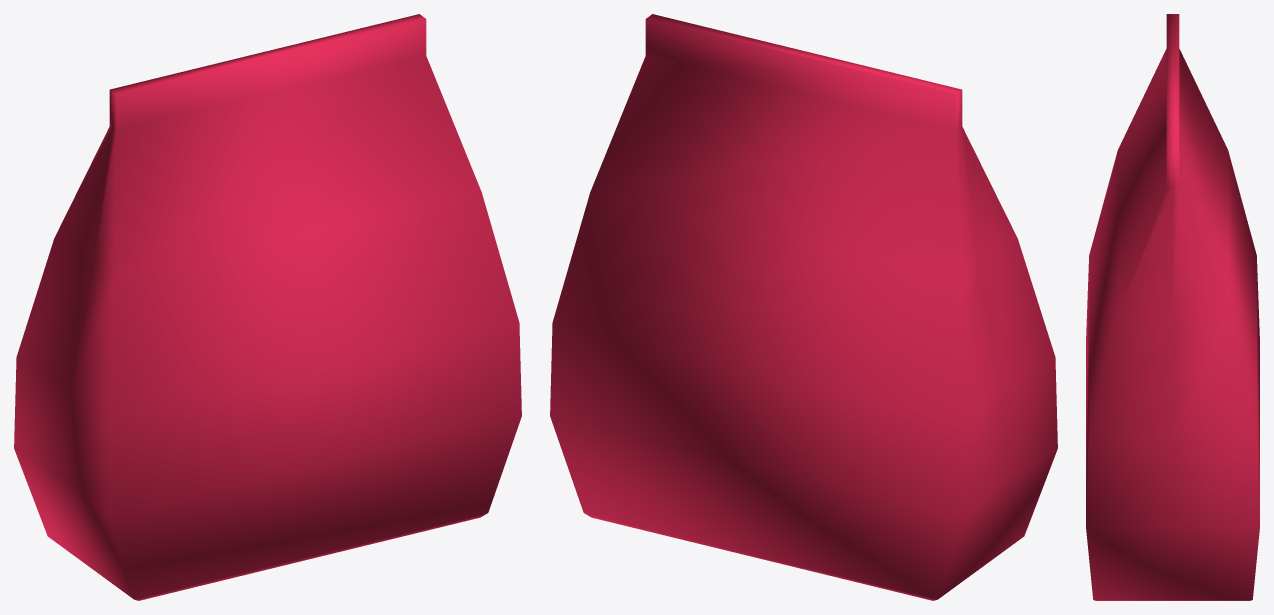
File: biscogolosi_max.fbx
The picture shows the model from 3 angles, left to right: view 1: azimuth 30°, elevation 25°; view 2: azimuth 150°, elevation 25°; view 3: azimuth 270°, elevation 25°; orthographic projection. The views are drawn at different scales.
Visible parts, largest first — view 1: biscotti1_grandi; view 2: biscotti1_grandi; view 3: biscotti1_grandi.
Boxes of the visible parts, bbox=[...] form: biscotti1_grandi: bbox=[14, 14, 521, 600]; biscotti1_grandi: bbox=[550, 14, 1057, 600]; biscotti1_grandi: bbox=[1086, 14, 1259, 600].
Bounding box in the file's own units: 474 × 519 × 186.
